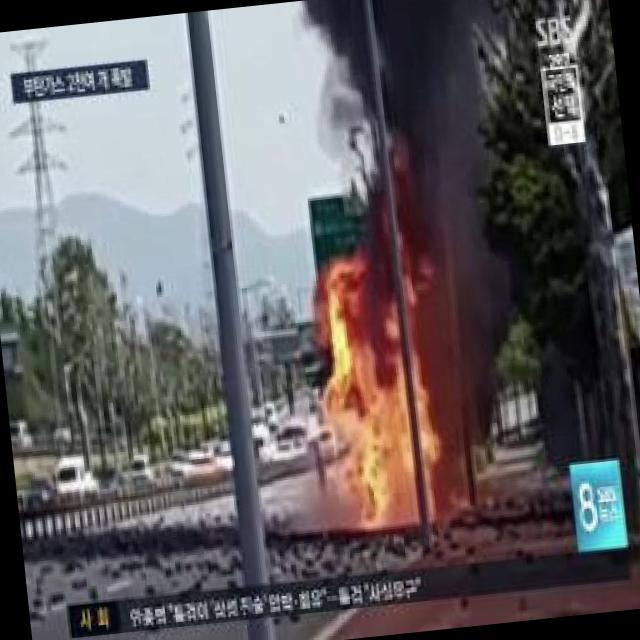Fire: (304, 248, 447, 541)
Smoke: (371, 0, 519, 420), (294, 0, 377, 116)
